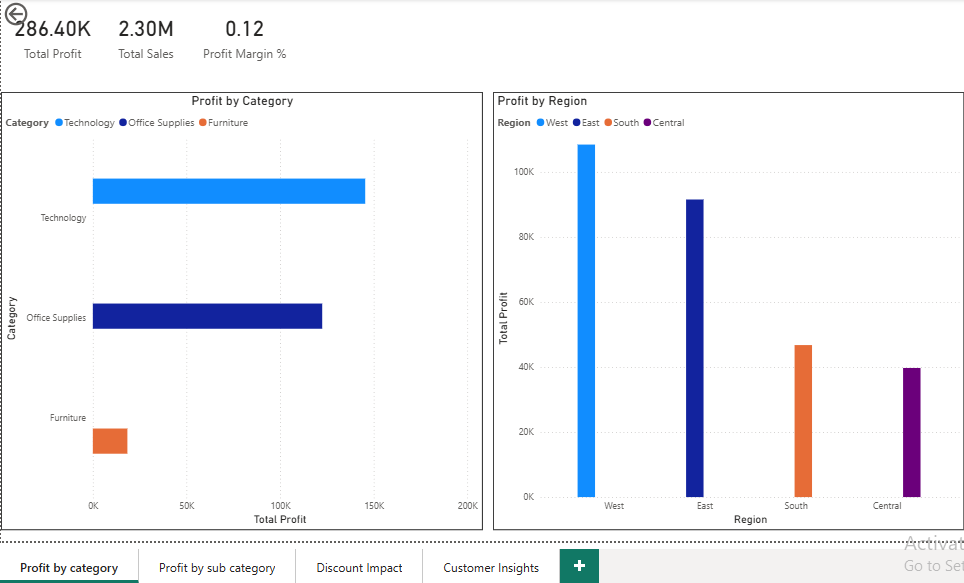

What the dashboard file says about the page in this screenshot:
{"tool":"powerbi","page":{"name":"Profit by category","canvas":[1280,720],"ordinal":0},"visuals":[{"type":"card","fields":{"Values":["Superstore_Cleaned.Total Profit"]},"box":[10.1,0,115.9,95.7],"z":0},{"type":"card","fields":{"Values":["Superstore_Cleaned.Total Sales"]},"box":[126,0,132.7,95.7],"z":1000},{"type":"card","fields":{"Values":["Superstore_Cleaned.Profit Margin %"]},"box":[258.7,0,129.3,95.7],"z":2000},{"type":"clusteredBarChart","title":"Profit by Category","fields":{"Category":["Superstore_Cleaned.Category"],"Y":["Superstore_Cleaned.Total Profit"],"Series":["Superstore_Cleaned.Category"]},"box":[0,122.9,639.5,582.4],"z":3000},{"type":"actionButton","box":[0,0,100,40],"z":4000},{"type":"clusteredColumnChart","title":"Profit by Region","fields":{"Category":["Superstore_Cleaned.Region"],"Y":["Superstore_Cleaned.Total Profit"],"Series":["Superstore_Cleaned.Region"]},"box":[654.1,122.9,626.3,582.4],"z":5000}]}

Visuals, with their boxes on the page's 1280x720 design canvas (x1, y1, x2, y2). These are canvas units, not pixel positions in the 964x583 screenshot, which may show the page scaled, cropped or inside an application window:
card - Superstore_Cleaned.Total Profit: 10, 0, 126, 96
card - Superstore_Cleaned.Total Sales: 126, 0, 259, 96
card - Superstore_Cleaned.Profit Margin %: 259, 0, 388, 96
"Profit by Category" clusteredBarChart: 0, 123, 640, 705
actionButton: 0, 0, 100, 40
"Profit by Region" clusteredColumnChart: 654, 123, 1280, 705
